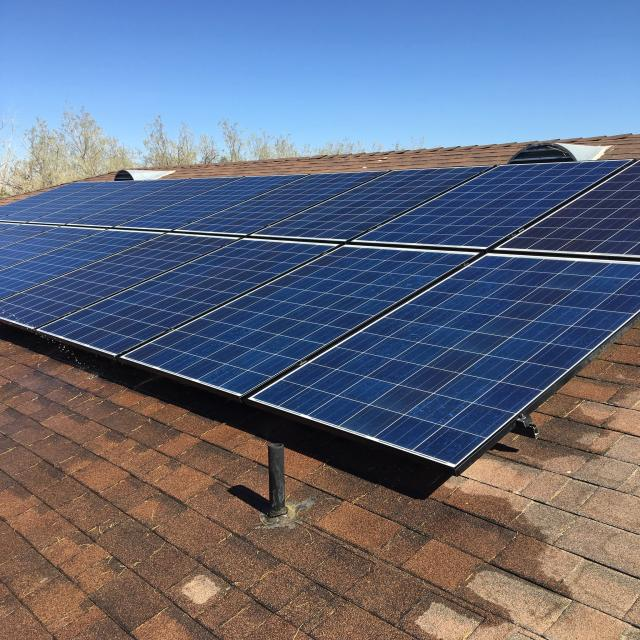clean-solar-panel: (0, 159, 640, 470)
